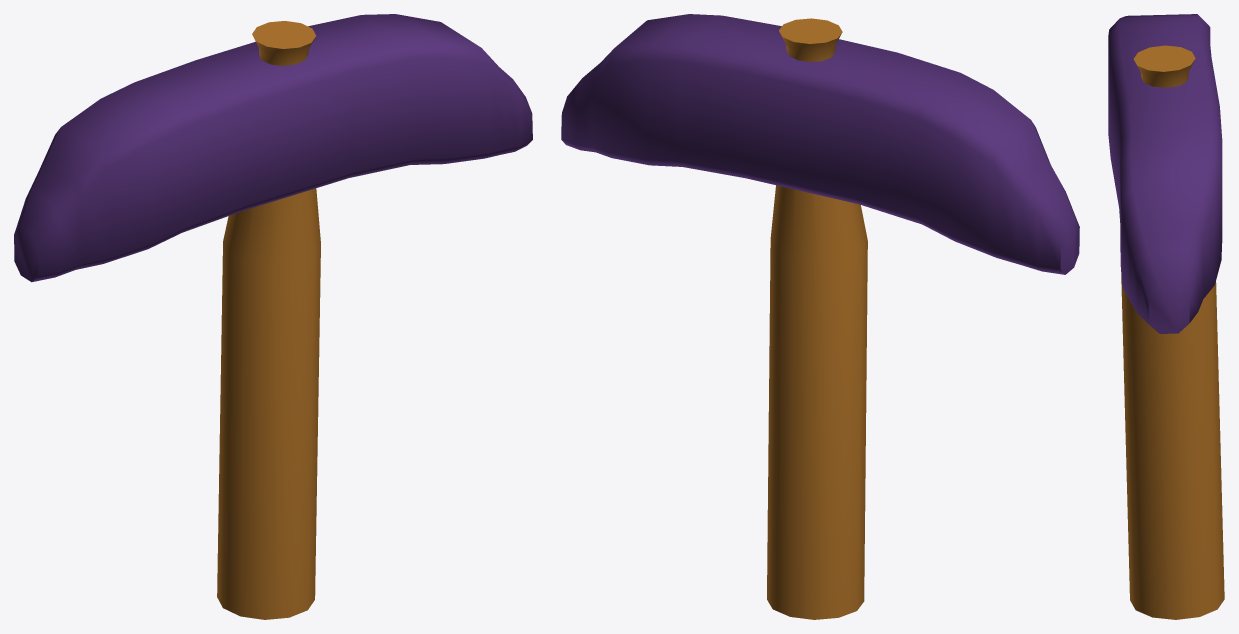
Rendered from Magnatite Pickaxe.fbx.
3 renders of one model, left to right at view 1: azimuth 30°, elevation 25°; view 2: azimuth 150°, elevation 25°; view 3: azimuth 270°, elevation 25°, orthographic. The views are drawn at different scales.
Parts seen in each view (by area): view 1: pickaxe.005; view 2: pickaxe.005; view 3: pickaxe.005.
Boxes of the visible parts, x1,y1,x2,y2 form: pickaxe.005: (14, 14, 532, 619); pickaxe.005: (561, 14, 1079, 619); pickaxe.005: (1108, 14, 1224, 619).
Size of the model in its own units: 0.4223 by 0.4562 by 0.0878.
